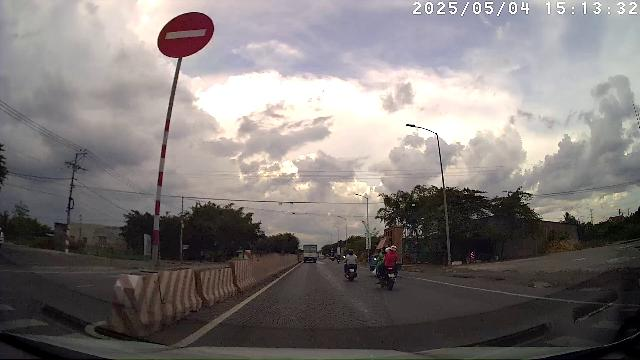102-cam-di-nguoc-chieu: (157, 10, 216, 58)
